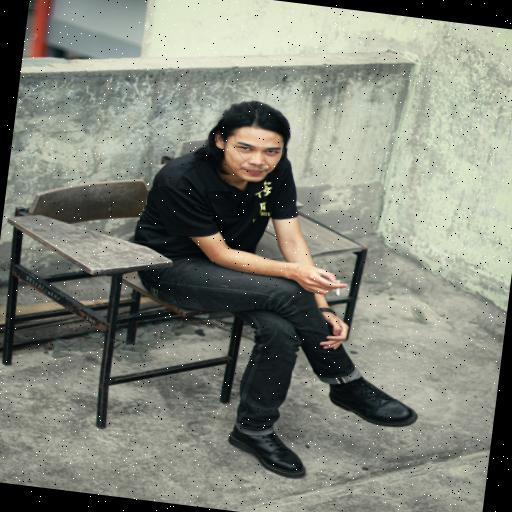terdeteksi pegang rokok: (287, 246, 360, 318)
